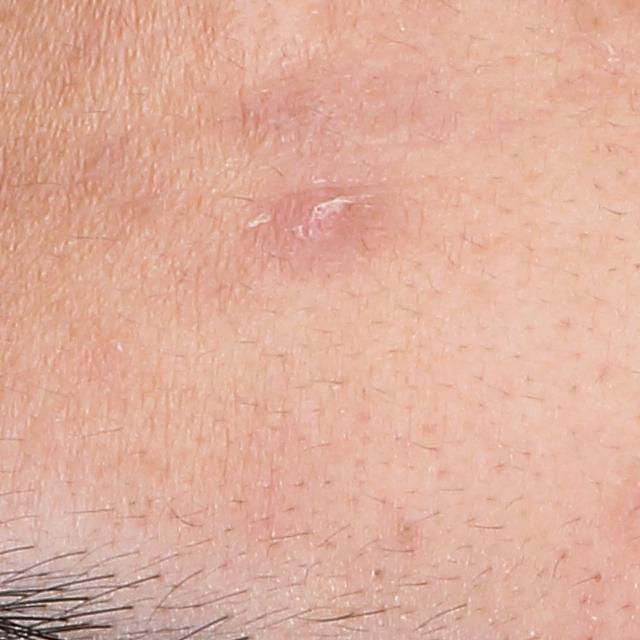comedo: (401, 520, 417, 537), (371, 565, 384, 577)
